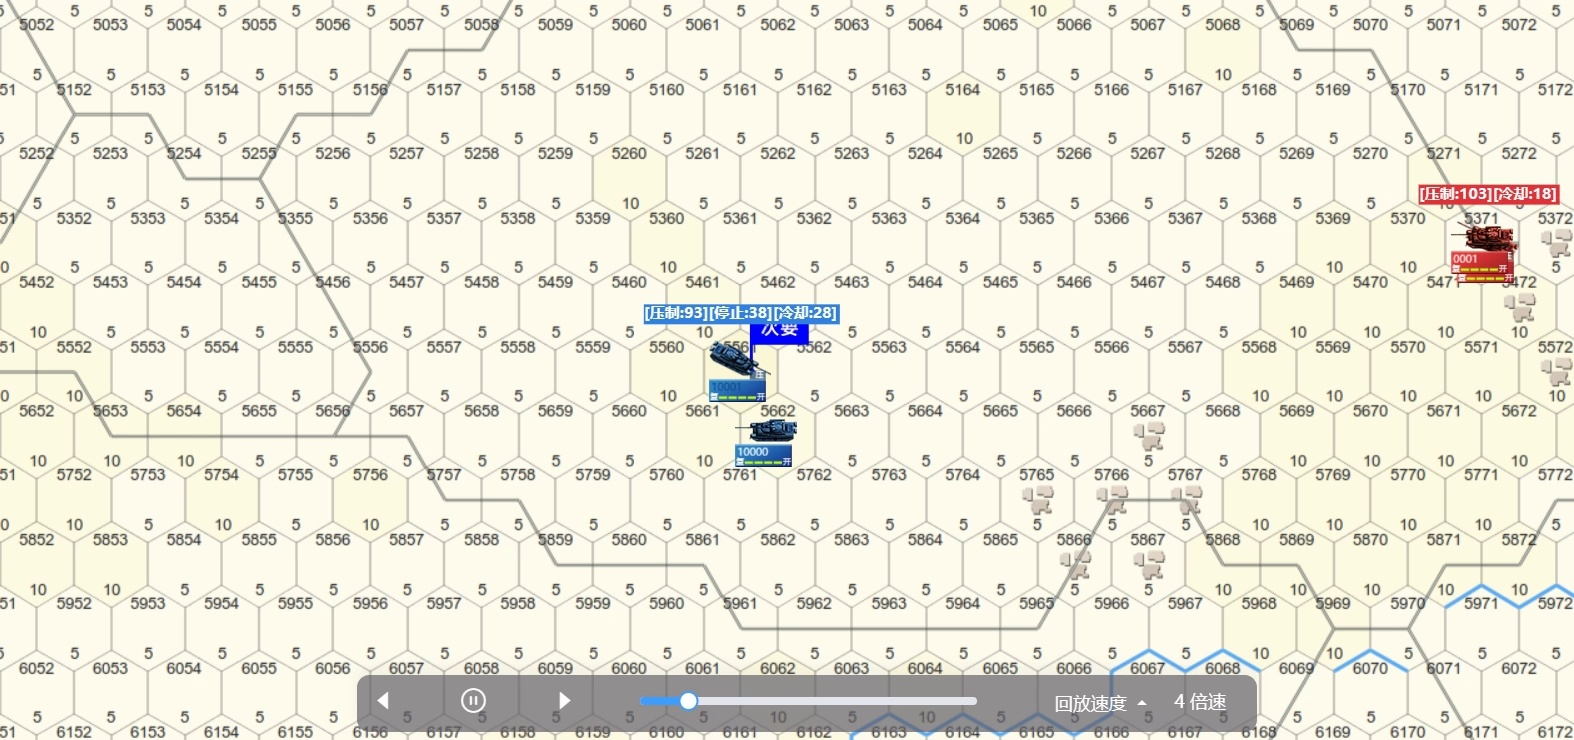blue_tank: (709, 346, 770, 396), (739, 419, 797, 465)
red_tank: (1441, 216, 1522, 281)
